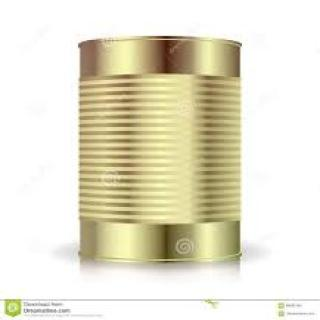Anorganik: (67, 29, 253, 275)
